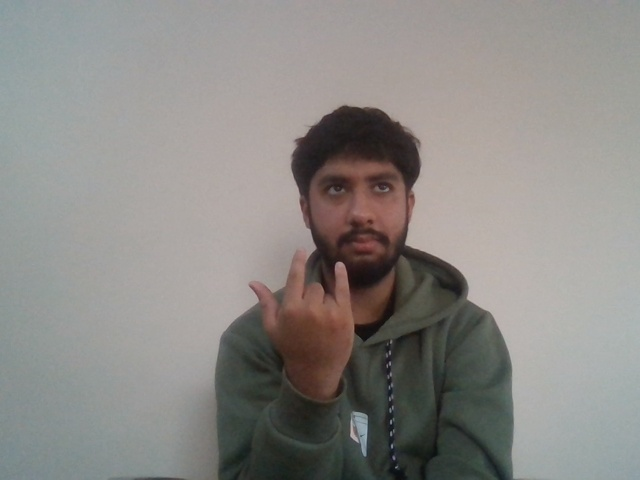IloveYou: (245, 247, 371, 366)
